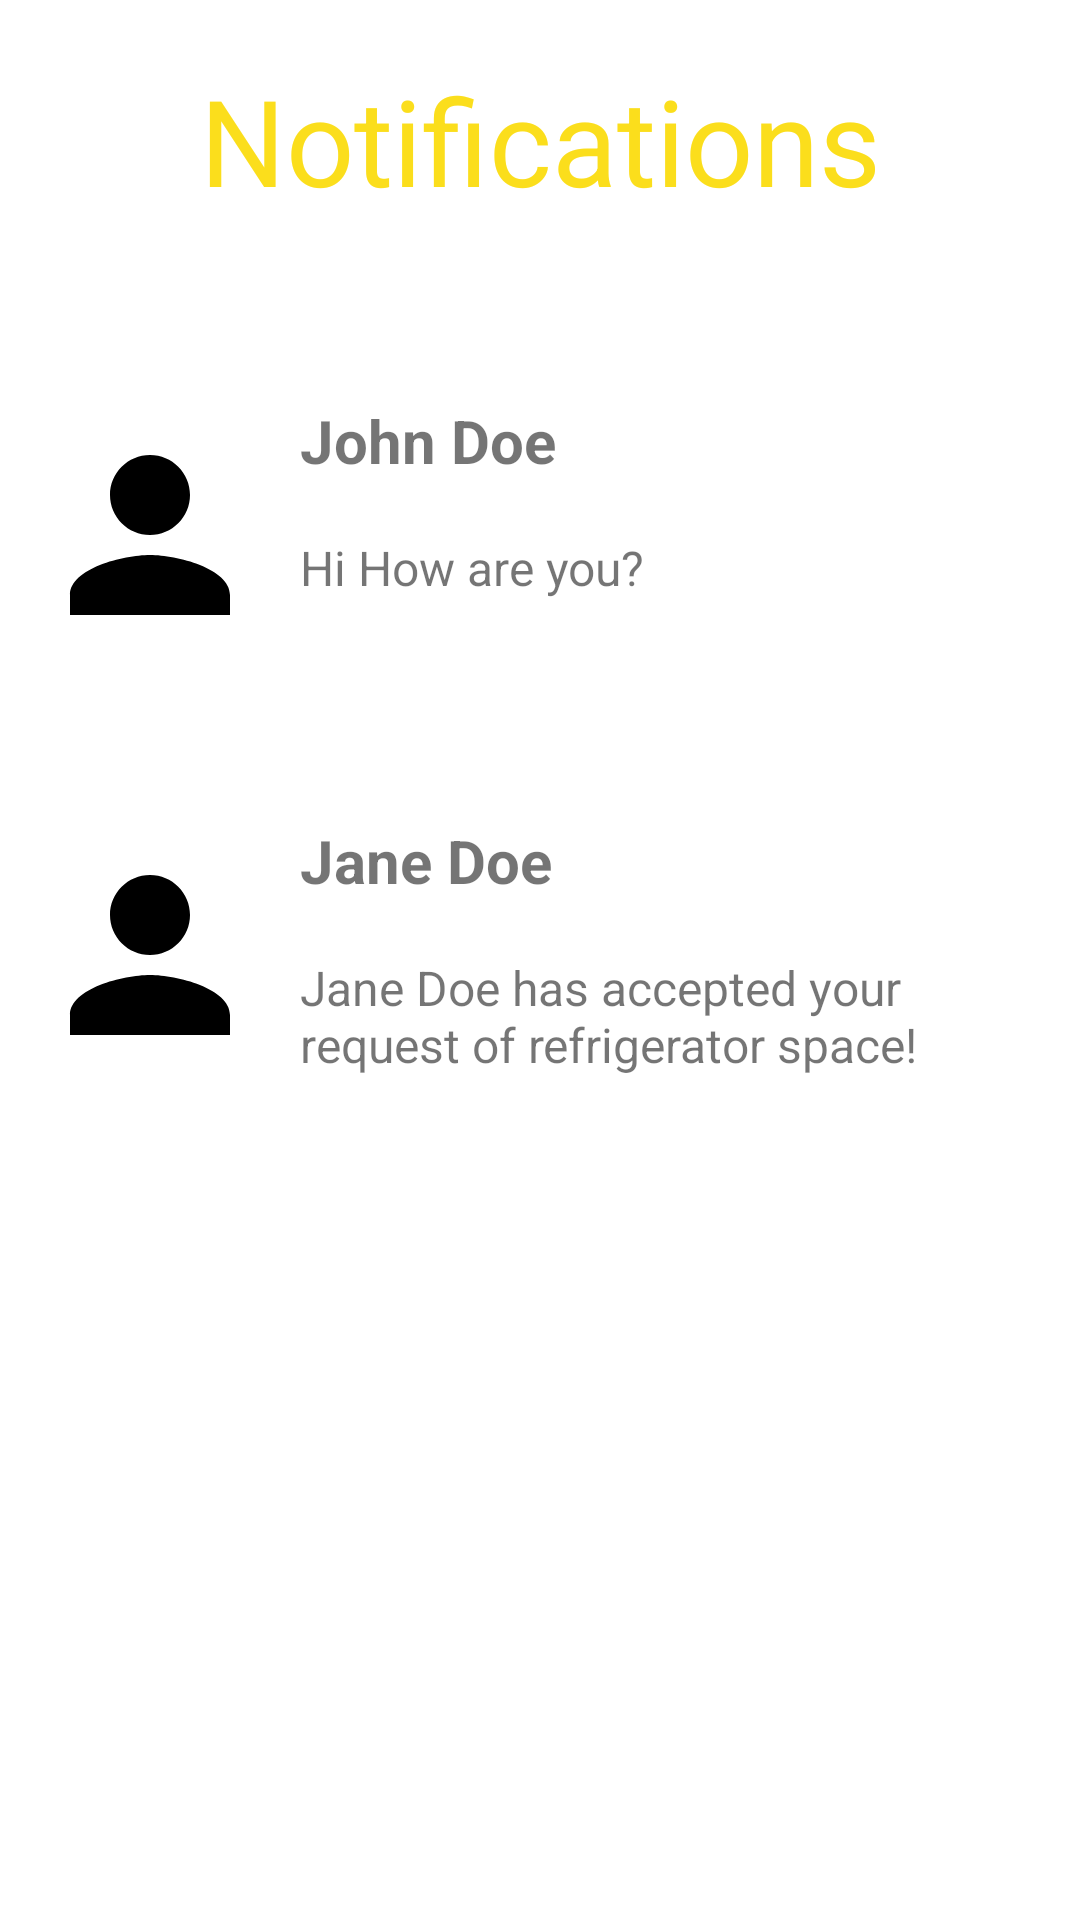

Where icons sit on this 1080 x 1920 app screen, as bbox=[x1, y1, x2, y2]:
person: bbox=[70, 455, 230, 615], bbox=[70, 875, 230, 1035]
